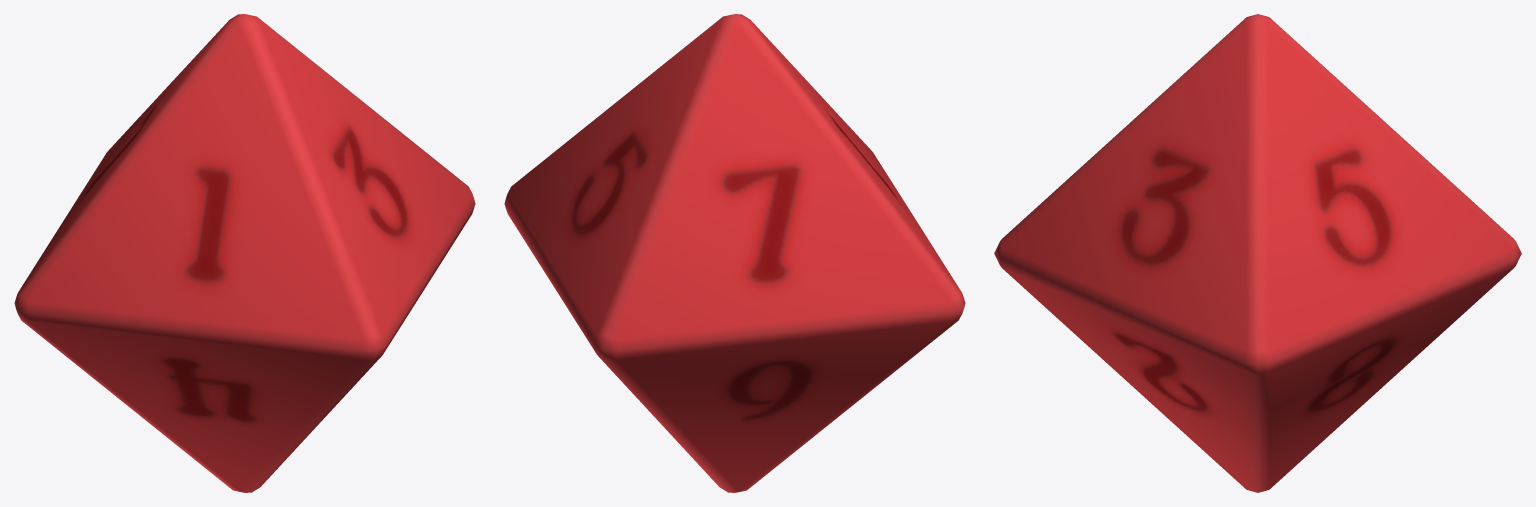
Rendered from D8_red.glb.
3 renders of one model, left to right at view 1: azimuth 30°, elevation 25°; view 2: azimuth 150°, elevation 25°; view 3: azimuth 270°, elevation 25°, orthographic.
Parts seen in each view (by area): view 1: D8_red; view 2: D8_red; view 3: D8_red.
Part boxes in pixels (left/top/right/bottom): D8_red: left=14, top=14, right=475, bottom=492; D8_red: left=504, top=14, right=965, bottom=492; D8_red: left=994, top=14, right=1521, bottom=492.
Size of the model in its own units: 1 by 1 by 1.
1 material, 1 textured.
